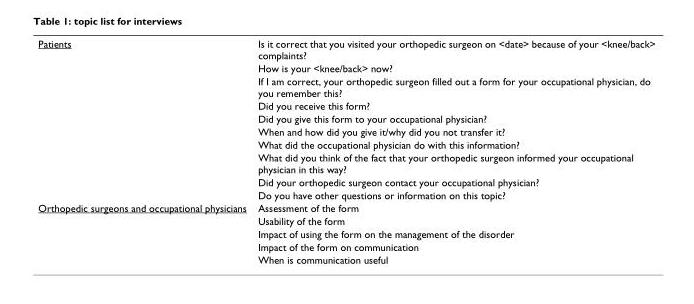table: (37, 37, 654, 265)
table column: (251, 37, 654, 265), (37, 37, 251, 265)
table row: (37, 150, 654, 175), (37, 37, 654, 61), (37, 74, 654, 98), (37, 61, 654, 74), (37, 98, 654, 111), (37, 111, 654, 124), (37, 124, 654, 137), (37, 137, 654, 150), (37, 175, 654, 188), (37, 188, 654, 201), (37, 201, 654, 214), (37, 226, 654, 239), (37, 239, 654, 252), (37, 252, 654, 265), (37, 214, 654, 226)
table spanning cell: (37, 37, 251, 201), (37, 201, 251, 265)
